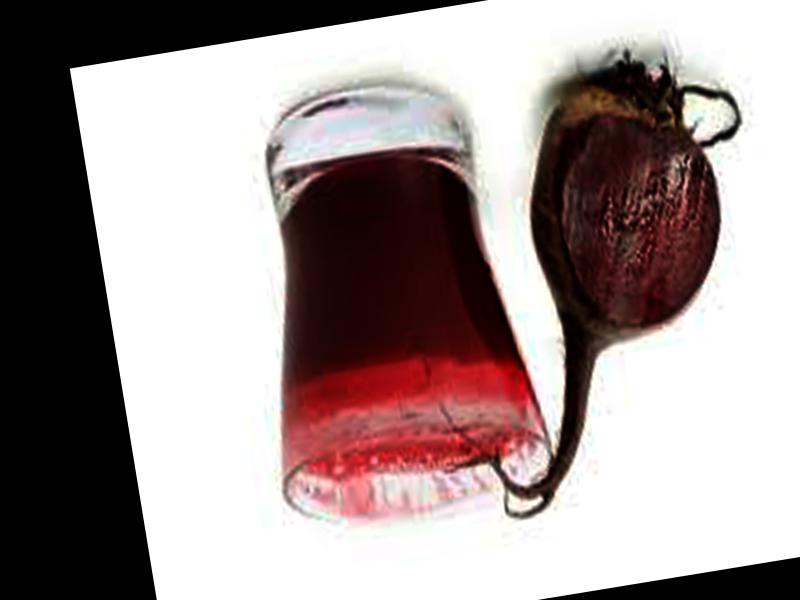Beet: (396, 40, 797, 527)
